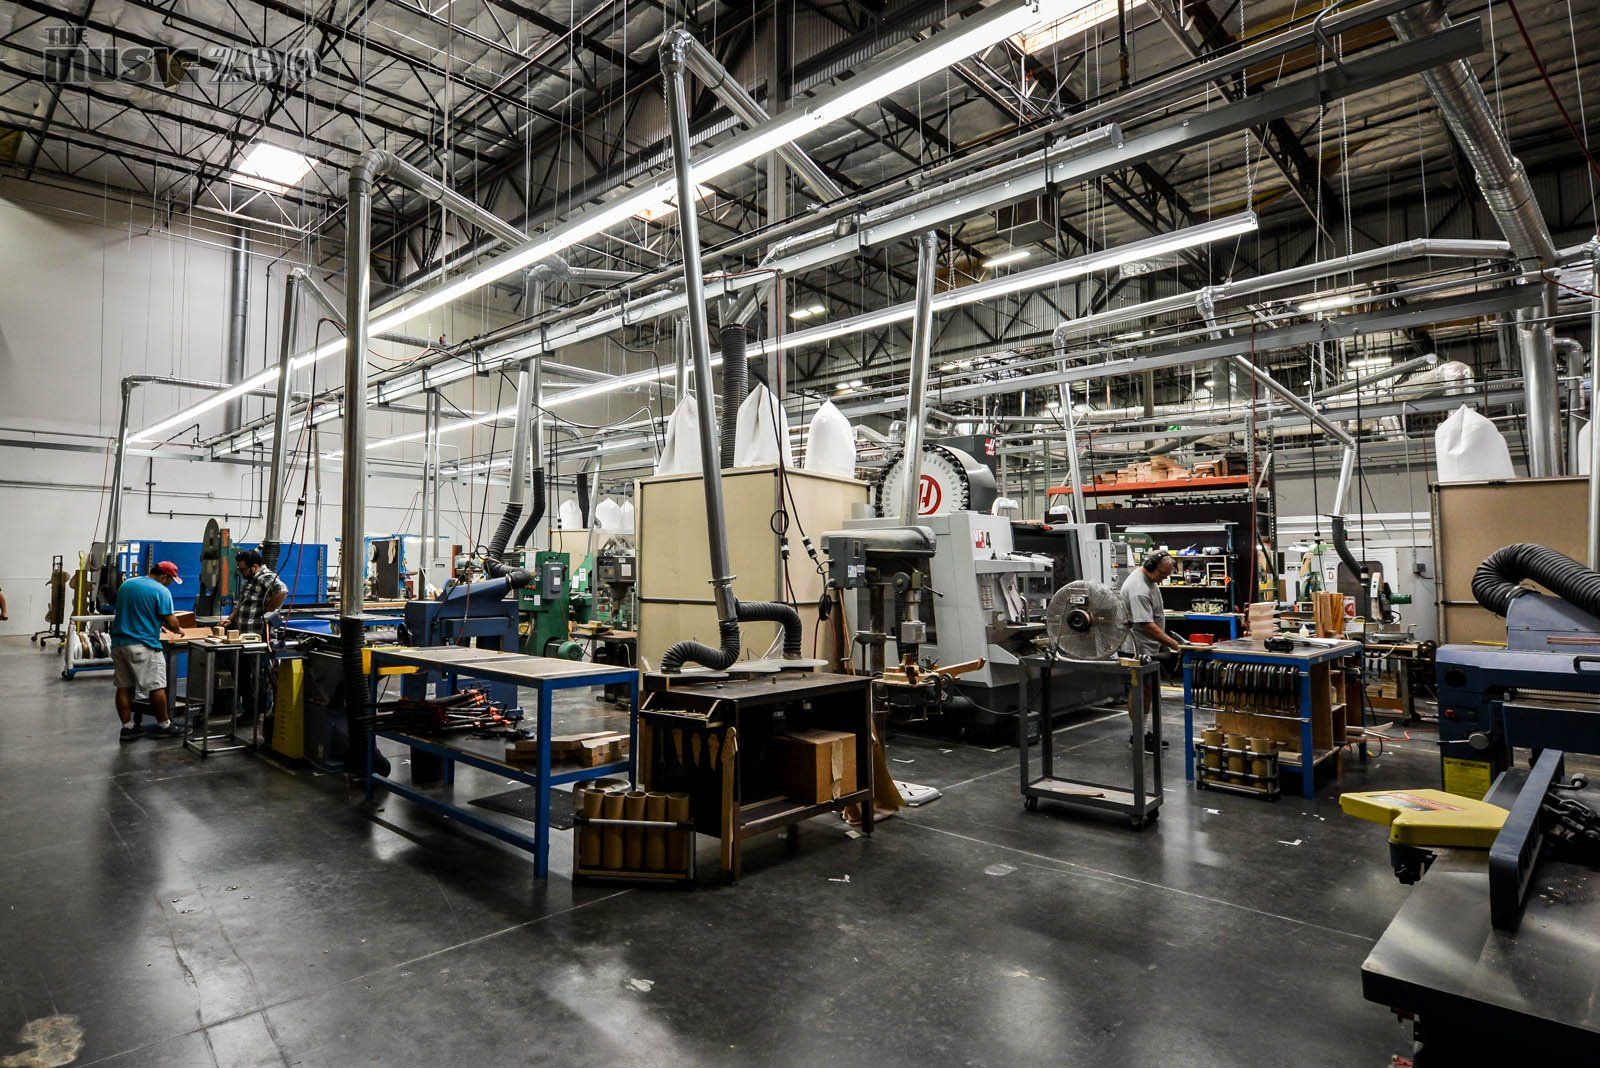epi: (119, 555, 186, 732)
noepi: (1120, 547, 1184, 757), (223, 553, 299, 648)
